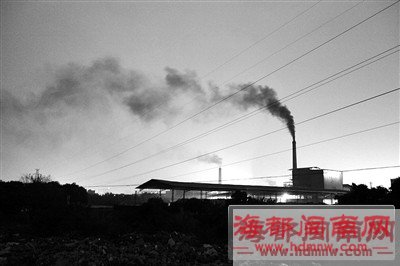dust: (242, 86, 297, 143), (204, 149, 226, 172)
